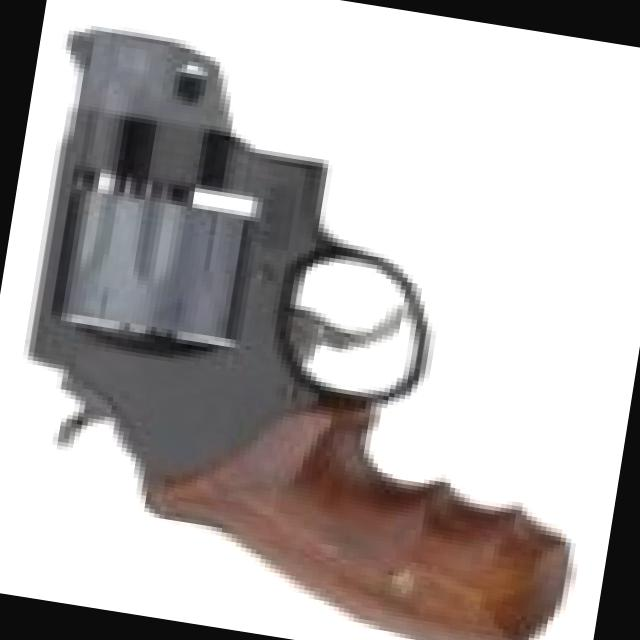handgun: (0, 32, 627, 639)
